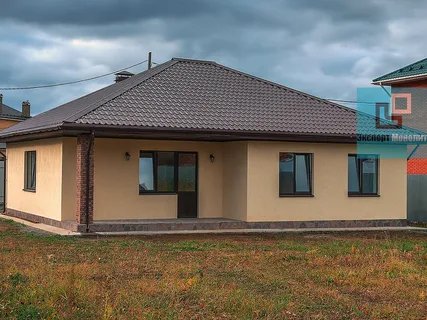private_hause: (36, 60, 409, 229)
